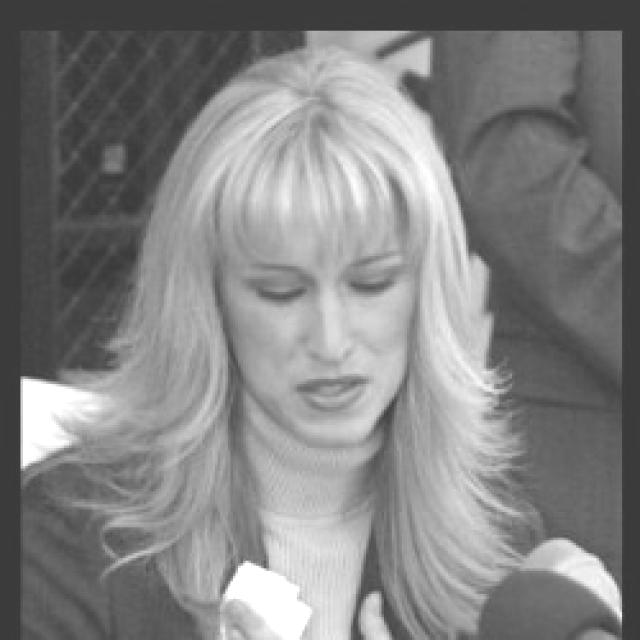real: (220, 171, 422, 448), (244, 263, 402, 308)
